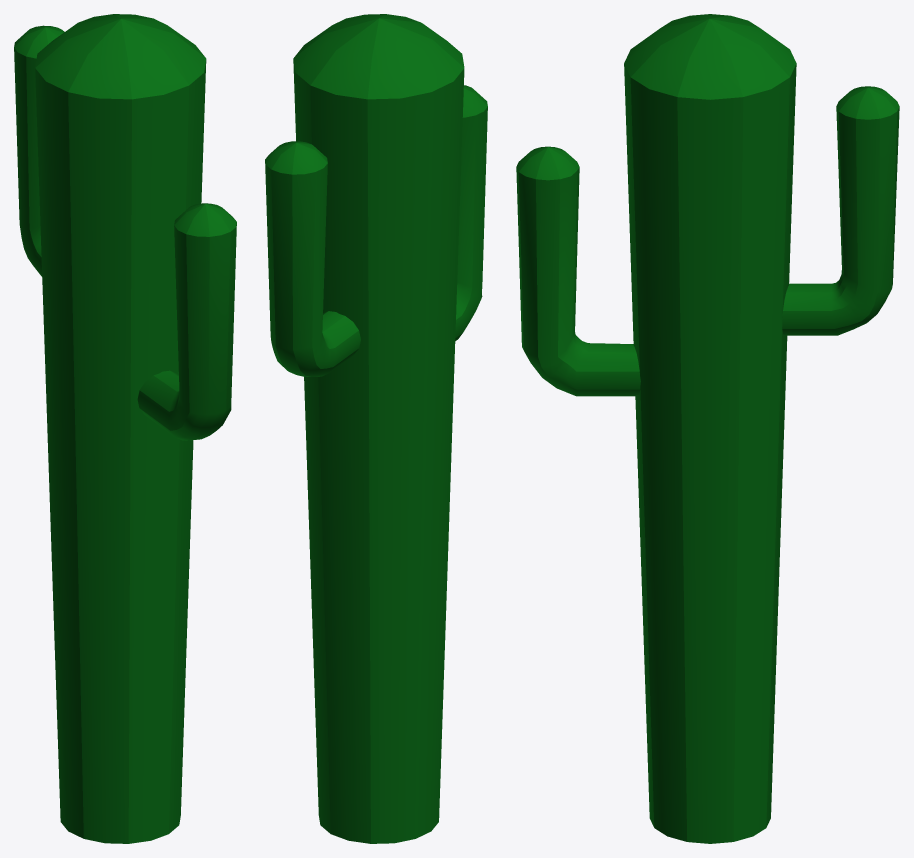
File: kaktus.fbx
3 views of the same model, side by side, from view 1: azimuth 30°, elevation 25°; view 2: azimuth 150°, elevation 25°; view 3: azimuth 270°, elevation 25° (orthographic).
Visible parts, largest first — view 1: Cylinder; view 2: Cylinder; view 3: Cylinder.
Part boxes in pixels (x1=…): Cylinder: x1=14, y1=14, x2=236, y2=843; Cylinder: x1=265, y1=14, x2=487, y2=843; Cylinder: x1=516, y1=14, x2=899, y2=843.
Bounding box in the file's own units: 206 × 1054 × 458.
